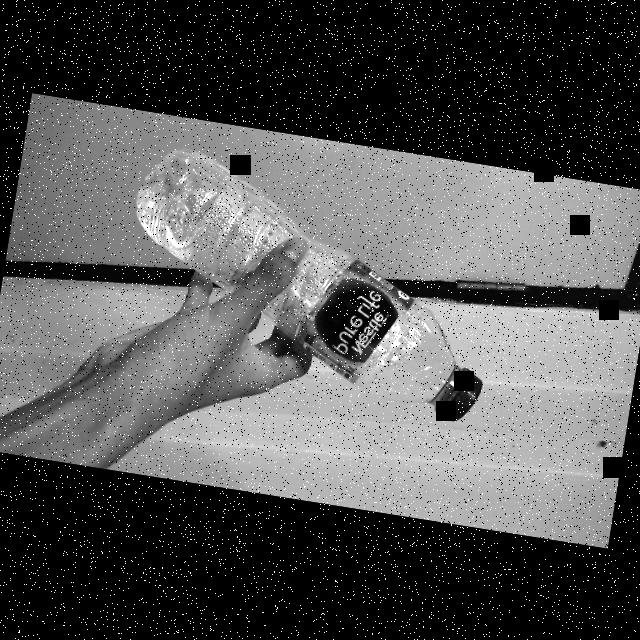plastic_bottle: (102, 127, 523, 428)
plastic_bottle_cap: (426, 358, 486, 424)
